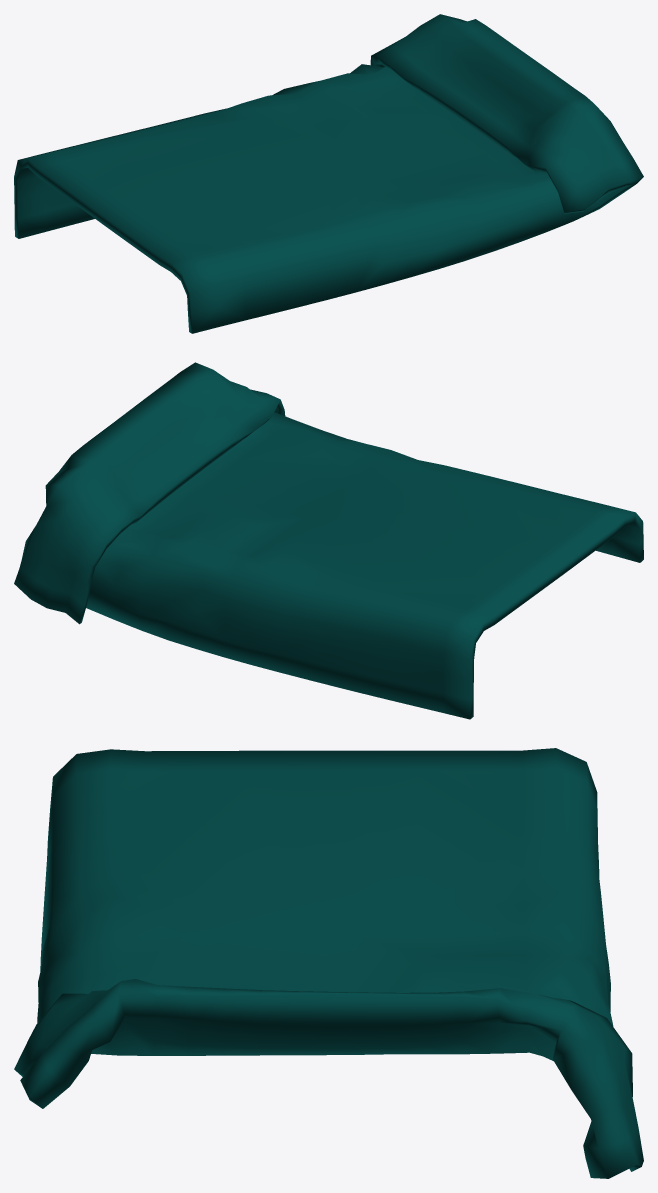
The model's file is Blanket_Positive.fbx.
The picture shows the model from 3 angles, top to bottom: view 1: azimuth 30°, elevation 25°; view 2: azimuth 150°, elevation 25°; view 3: azimuth 270°, elevation 25°; orthographic projection. The views are drawn at different scales.
Visible parts, largest first — view 1: Blanket_ Positive; view 2: Blanket_ Positive; view 3: Blanket_ Positive.
Boxes of the visible parts, bbox=[...] form: Blanket_ Positive: bbox=[14, 14, 643, 333]; Blanket_ Positive: bbox=[14, 362, 643, 719]; Blanket_ Positive: bbox=[14, 748, 643, 1178].
Size of the model in its own units: 151 by 45.09 by 117.
